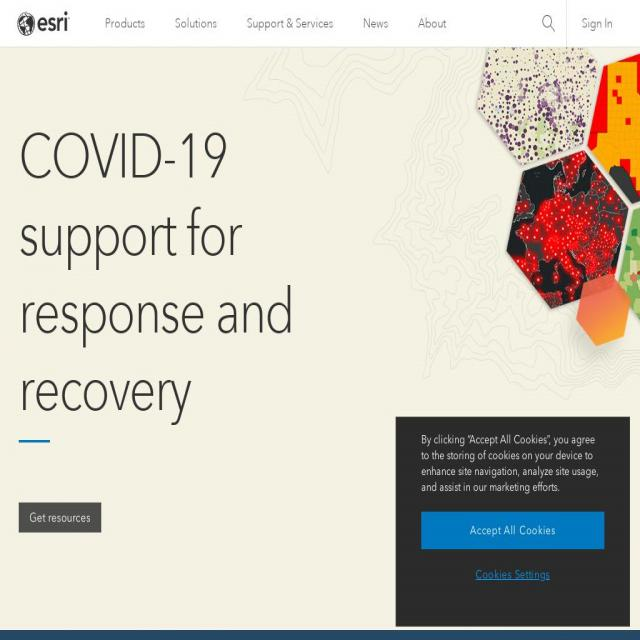login-option: (577, 9, 616, 38)
navigation-links: (98, 12, 454, 40)
search: (532, 8, 560, 38)
